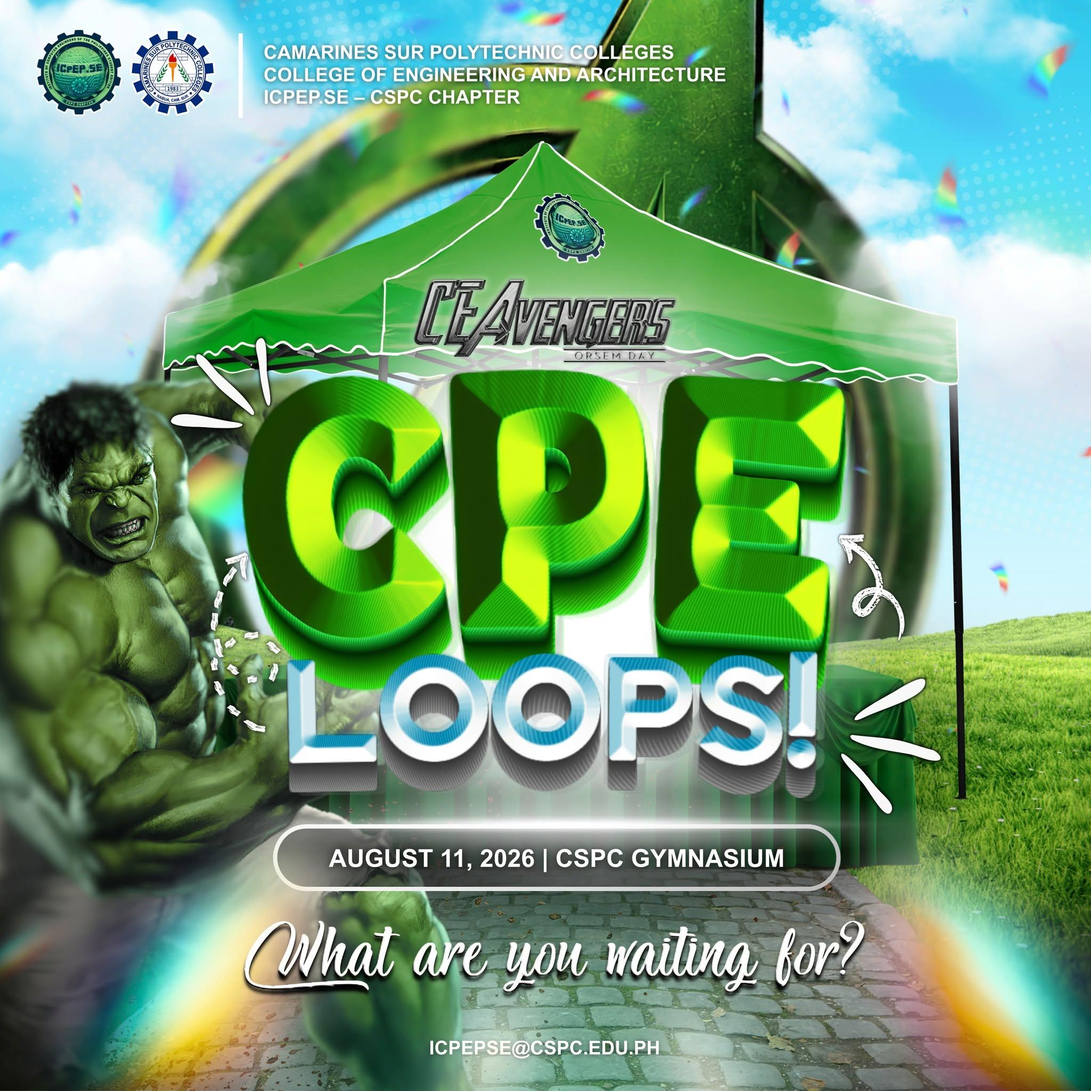embellishment: (204, 548, 283, 737), (835, 532, 908, 648), (192, 348, 258, 419), (838, 747, 896, 818), (850, 674, 930, 723), (848, 730, 946, 766), (168, 408, 248, 431), (253, 334, 275, 407), (233, 30, 247, 120)
logo: (33, 28, 125, 123), (128, 26, 217, 118)
text: (235, 362, 852, 808), (238, 909, 877, 1003), (259, 37, 734, 108), (415, 273, 681, 365), (325, 842, 788, 872), (424, 1033, 666, 1062)
underlay: (160, 138, 970, 799), (274, 823, 841, 892)
